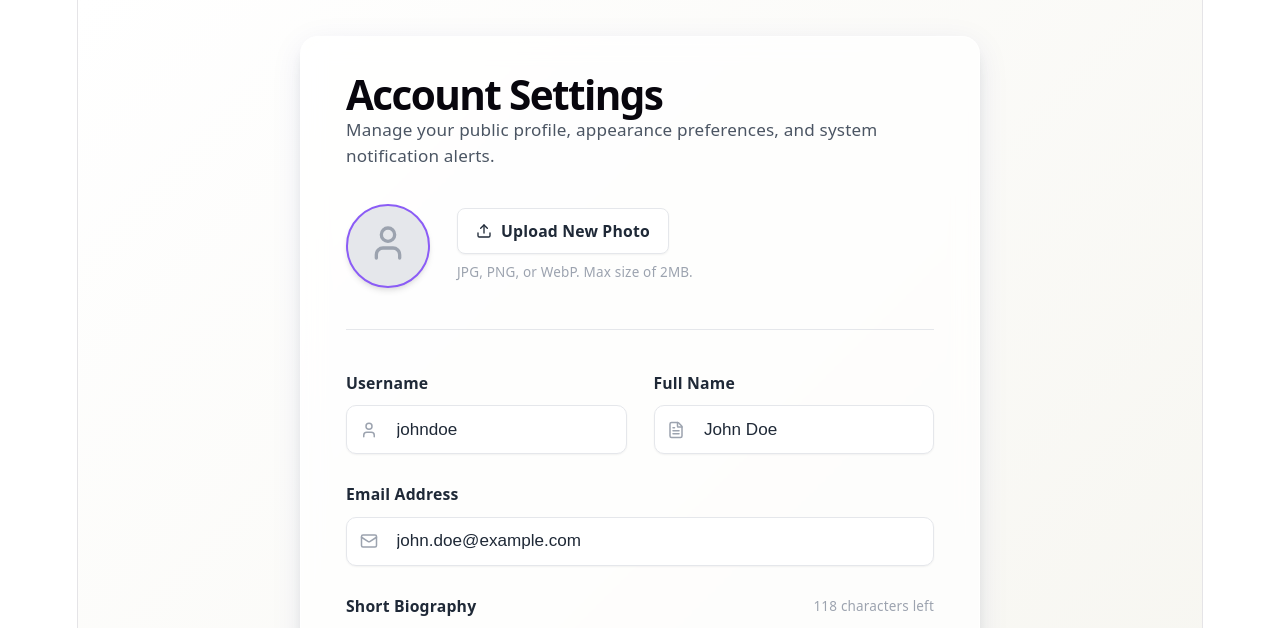
Test: Profile Settings Form - Round Two › validates invalid email formats
Replace the text in the field labelled "Email Address" with "invalid-email": (640,541) [346, 517, 934, 566]
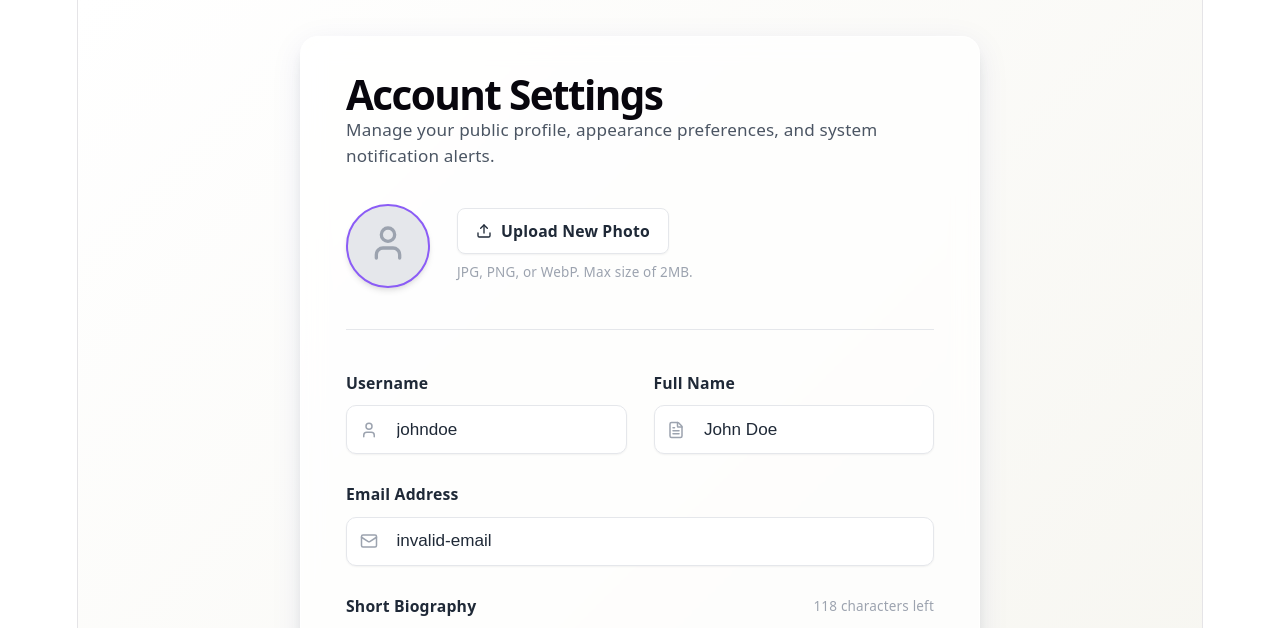
Leave the field labelled "Email Address", box [346, 517, 934, 566]
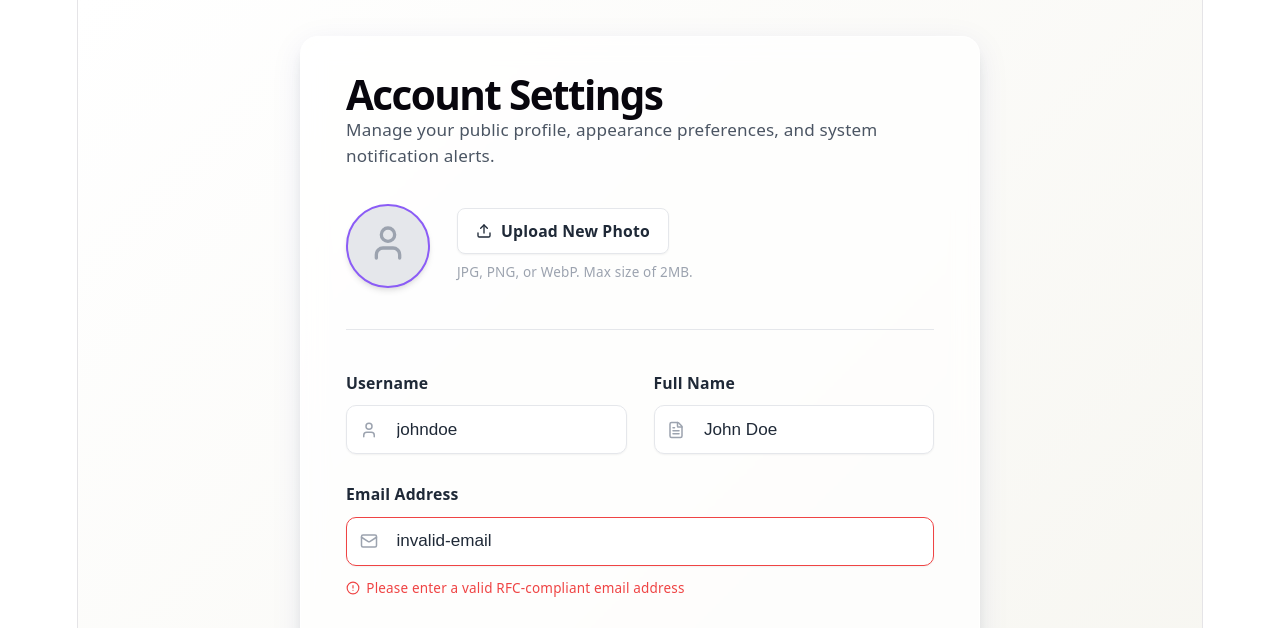
Result: the text "Please enter a valid RFC-compliant email address" is shown at [346, 579, 685, 597]
